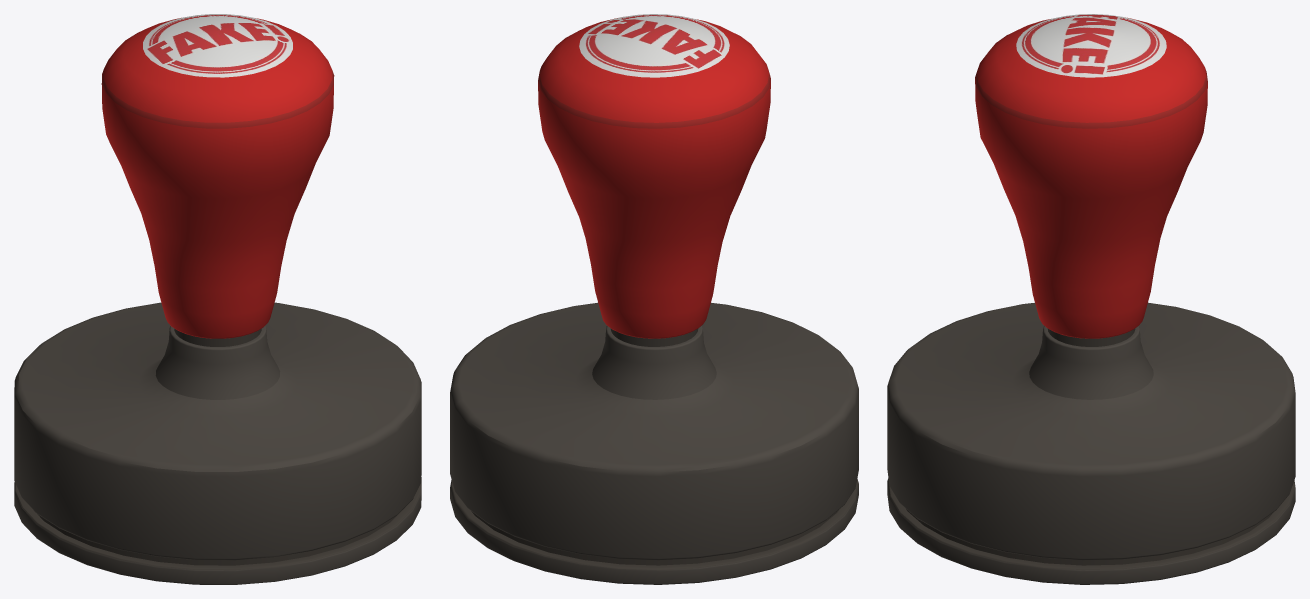
The model's file is stamp.fbx.
3 renders of one model, left to right at view 1: azimuth 30°, elevation 25°; view 2: azimuth 150°, elevation 25°; view 3: azimuth 270°, elevation 25°, orthographic.
Parts seen in each view (by area): view 1: Cylinder; view 2: Cylinder; view 3: Cylinder.
Part boxes in pixels (left/top/right/bottom): Cylinder: left=14, top=14, right=421, bottom=584; Cylinder: left=450, top=14, right=858, bottom=584; Cylinder: left=887, top=14, right=1295, bottom=584.
Bounding box in the file's own units: 239 × 302 × 239.
1 material, 1 textured.
